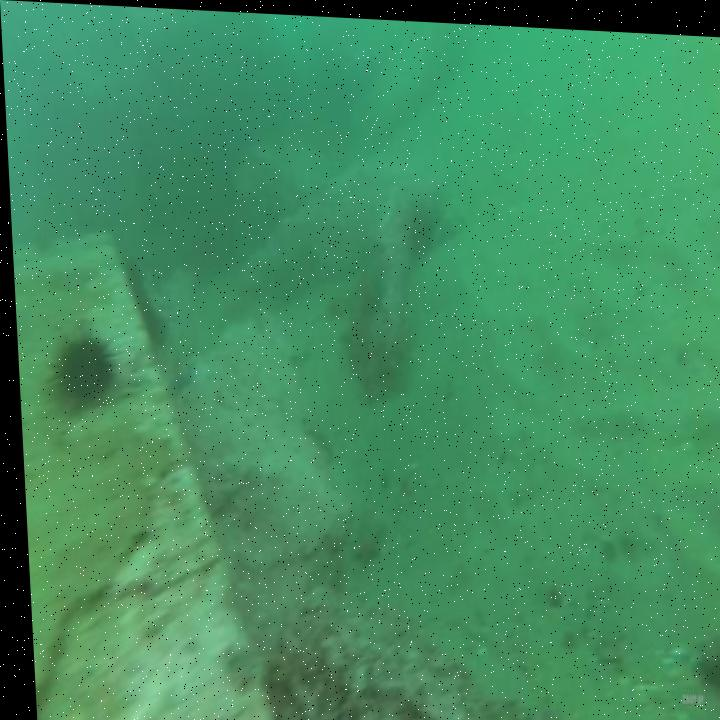echinus: (49, 334, 110, 411)
